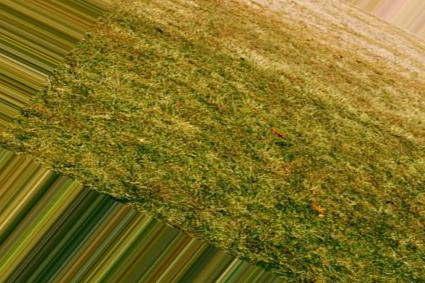patch: (308, 6, 397, 66)
